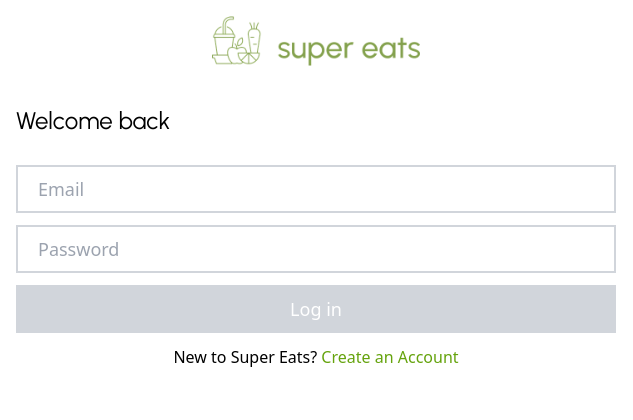
Test: <Login/> › should display email validation error
Type "te" into the field with placeholder "Email" at (316, 189), box [16, 165, 616, 213]
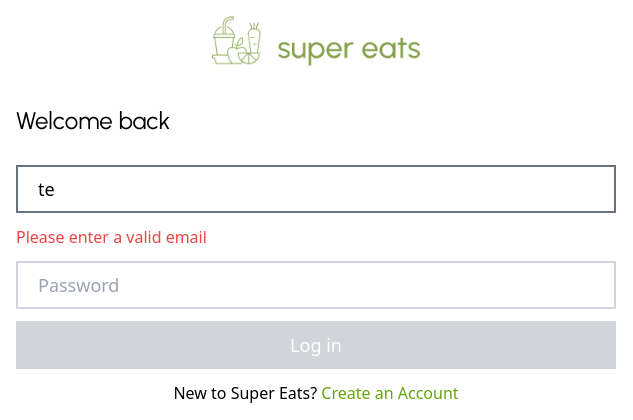
Expected: the message reads "Please enter a valid email", [16, 226, 207, 248]
Clear the field with placeholder "Email" at (316, 189), box [16, 165, 616, 213]
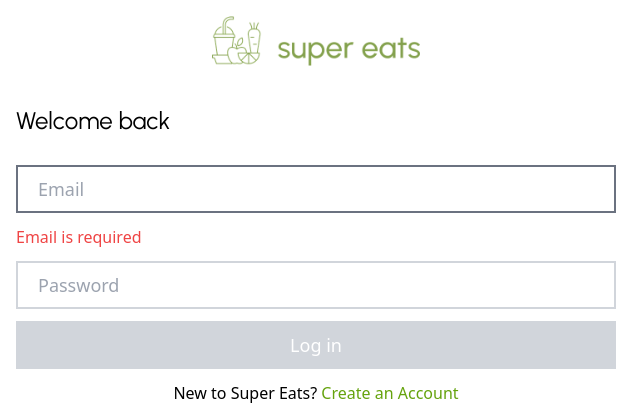
Expected: the message reads "Email is required", [16, 226, 142, 248]
